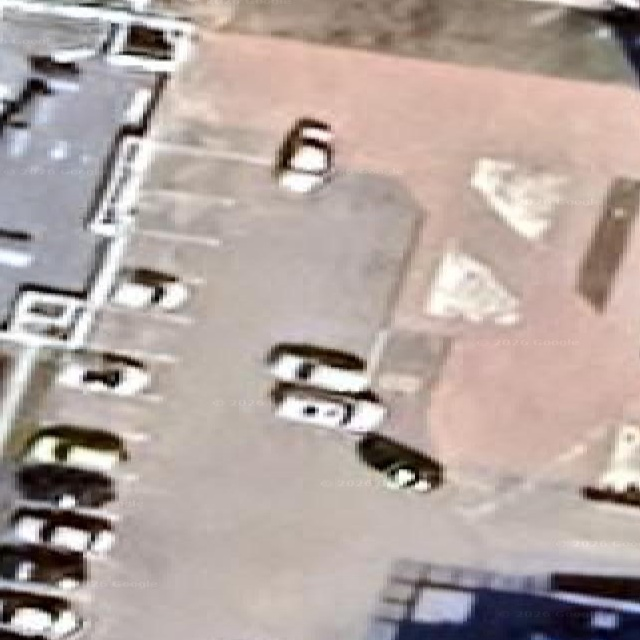car: (272, 383, 385, 432), (266, 343, 368, 393), (10, 506, 114, 555), (356, 433, 443, 491), (20, 425, 127, 472), (581, 424, 639, 508), (16, 463, 115, 507), (275, 117, 332, 193), (0, 588, 82, 639), (0, 542, 86, 589), (57, 353, 149, 396), (111, 268, 188, 310)
